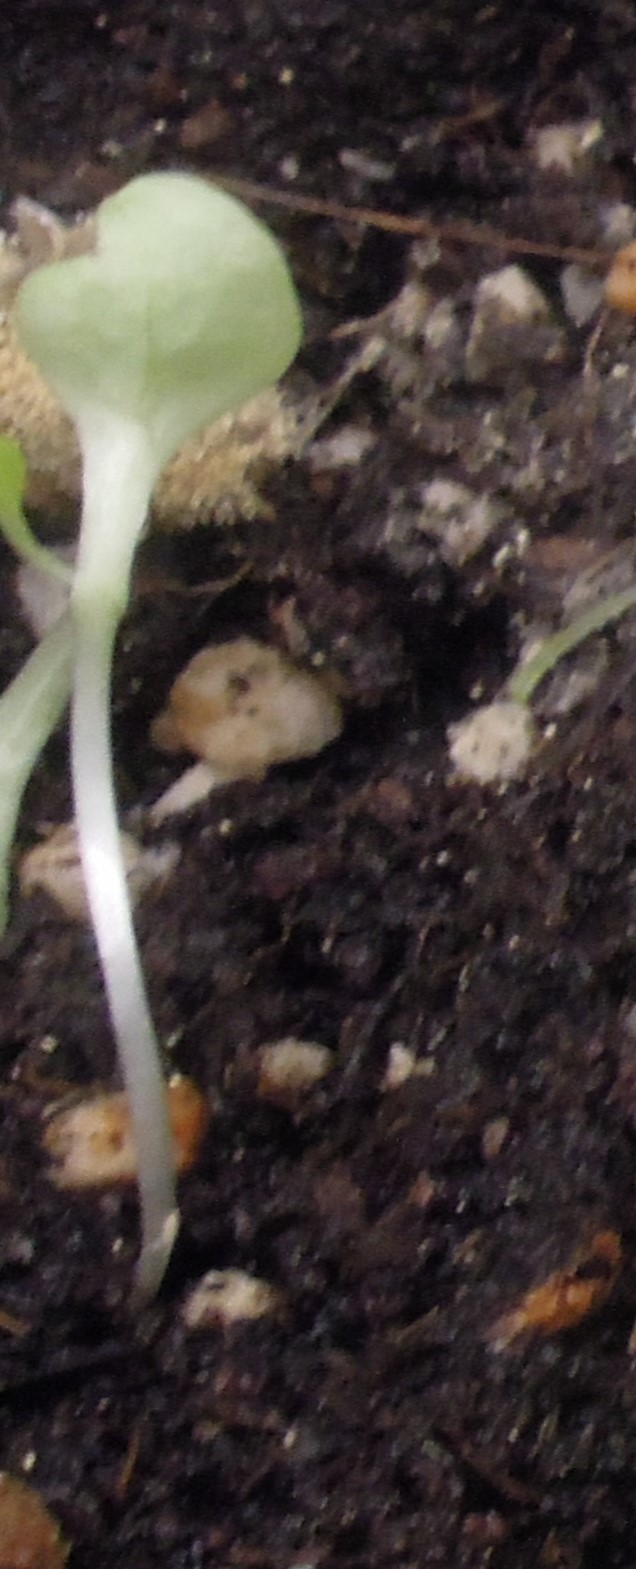week1: (37, 136, 342, 1341)
